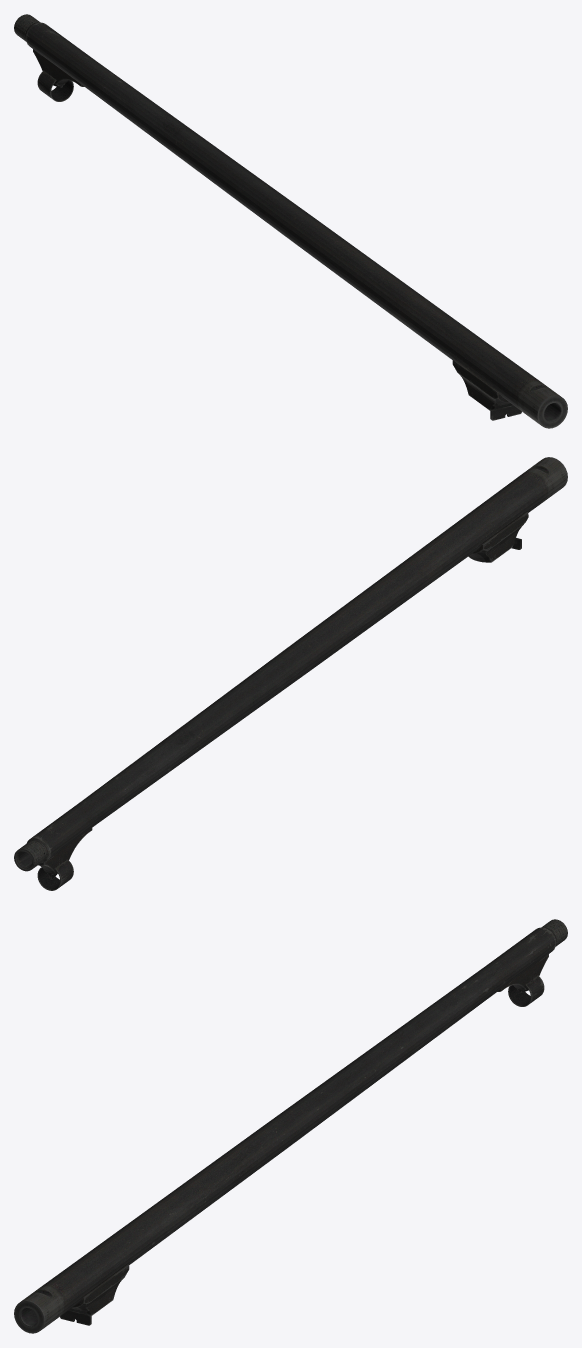
3 views of the same model, one above another, from view 1: azimuth 30°, elevation 25°; view 2: azimuth 150°, elevation 25°; view 3: azimuth 330°, elevation 25° (orthographic).
Parts seen in each view (by area): view 1: TW_5de65547883dde217541644b_PZ_Import; view 2: TW_5de65547883dde217541644b_PZ_Import; view 3: TW_5de65547883dde217541644b_PZ_Import.
Part boxes in pixels (x1,y1,x2,y2): TW_5de65547883dde217541644b_PZ_Import: (14, 14, 567, 428); TW_5de65547883dde217541644b_PZ_Import: (14, 457, 567, 890); TW_5de65547883dde217541644b_PZ_Import: (14, 919, 567, 1333).
Bounding box in the file's own units: 0.0116 × 0.3468 × 0.0234.
Materials: 1 (1 with a texture image).
